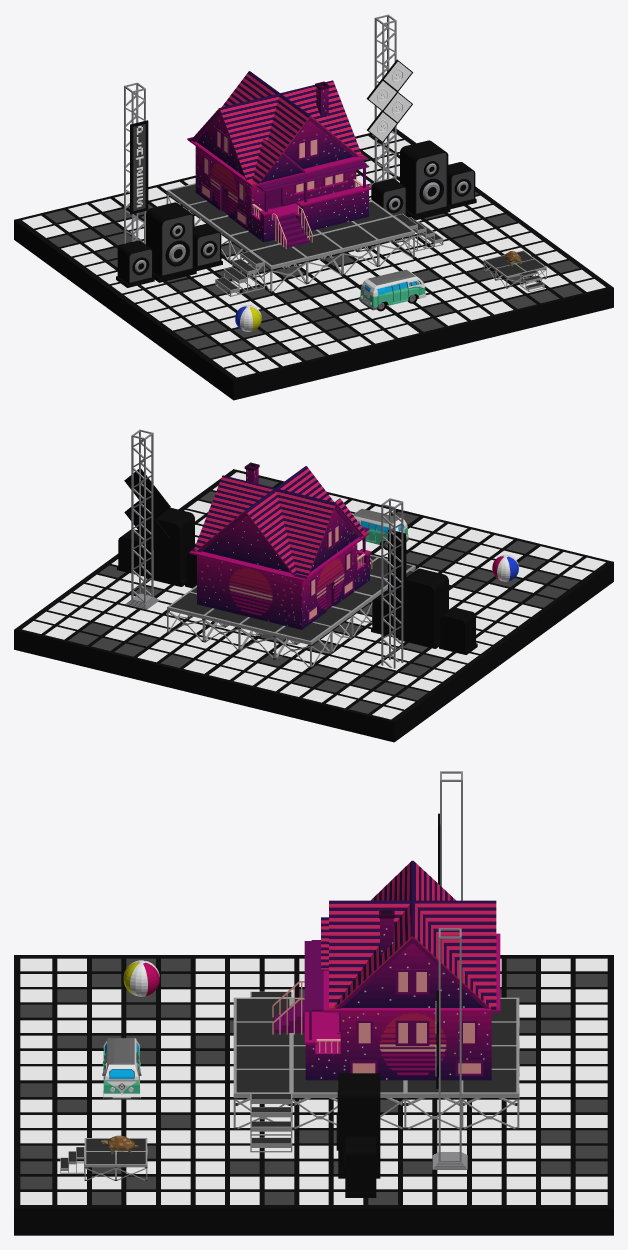
The picture shows the model from 3 angles, top to bottom: view 1: azimuth 30°, elevation 25°; view 2: azimuth 150°, elevation 25°; view 3: azimuth 270°, elevation 25°; orthographic projection. The views are drawn at different scales.
Visible parts, largest first — view 1: Cube.008, Cube.156, VEHICLES_VAN, OBJRANDOM_BEACHBALL; view 2: Cube.008, Cube.156, VEHICLES_VAN, OBJRANDOM_BEACHBALL; view 3: Cube.008, Cube.156, VEHICLES_VAN, OBJRANDOM_BEACHBALL.
Boxes of the visible parts, left/top/right/bottom form: Cube.008: left=14, top=14, right=613, bottom=400; Cube.156: left=187, top=71, right=371, bottom=248; VEHICLES_VAN: left=359, top=269, right=426, bottom=311; OBJRANDOM_BEACHBALL: left=235, top=305, right=261, bottom=331; Cube.008: left=14, top=429, right=613, bottom=742; Cube.156: left=189, top=462, right=372, bottom=629; VEHICLES_VAN: left=353, top=508, right=409, bottom=550; OBJRANDOM_BEACHBALL: left=492, top=554, right=518, bottom=581; Cube.008: left=14, top=771, right=613, bottom=1235; Cube.156: left=272, top=860, right=500, bottom=1080; VEHICLES_VAN: left=102, top=1038, right=141, bottom=1099; OBJRANDOM_BEACHBALL: left=123, top=960, right=159, bottom=996.
Size of the model in its own units: 4000 by 1945 by 4000.
40 materials, 3 textured.
